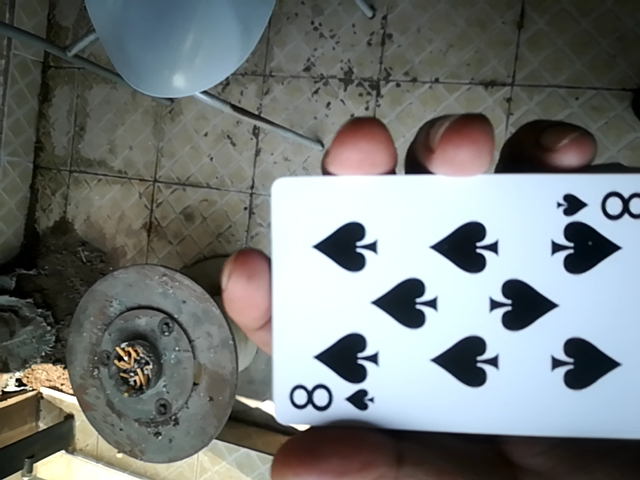ht 8: (251, 172, 635, 441)
